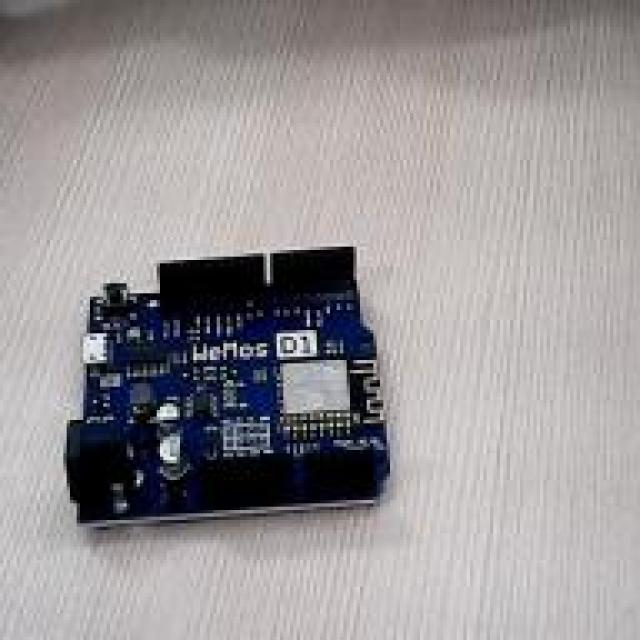Wemos: (64, 248, 388, 521)
